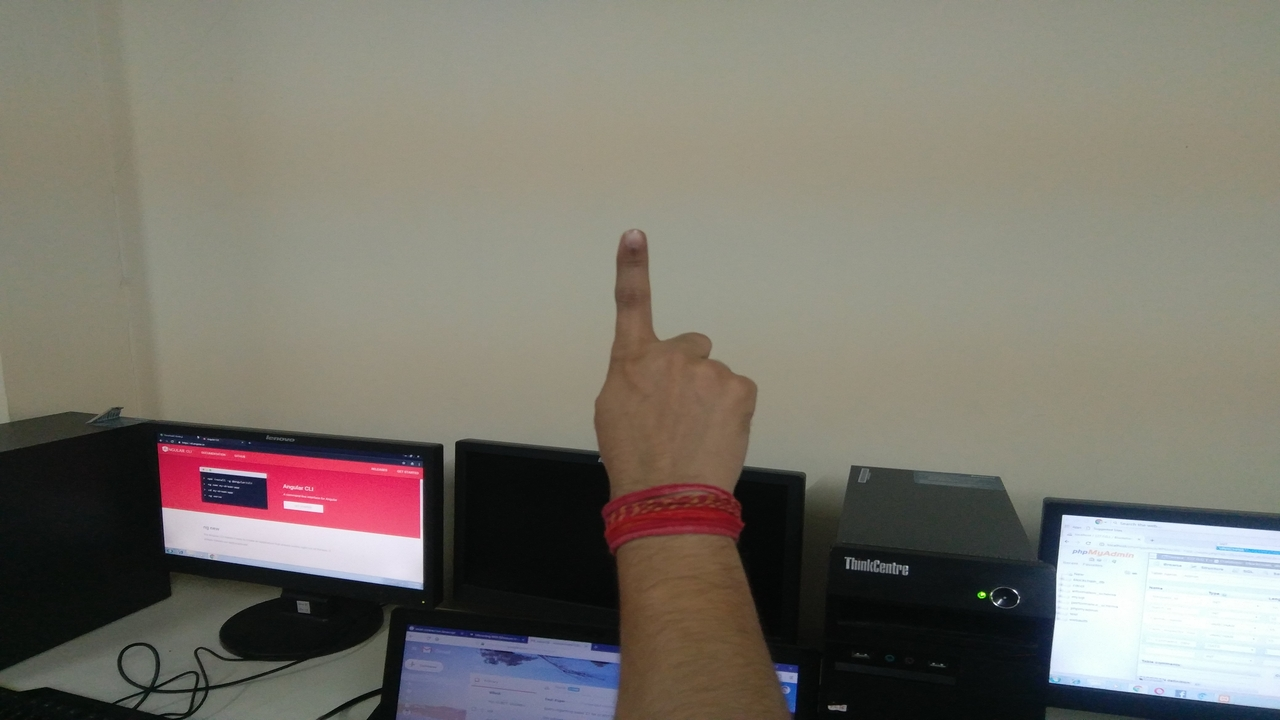fingertip: (610, 214, 656, 262)
